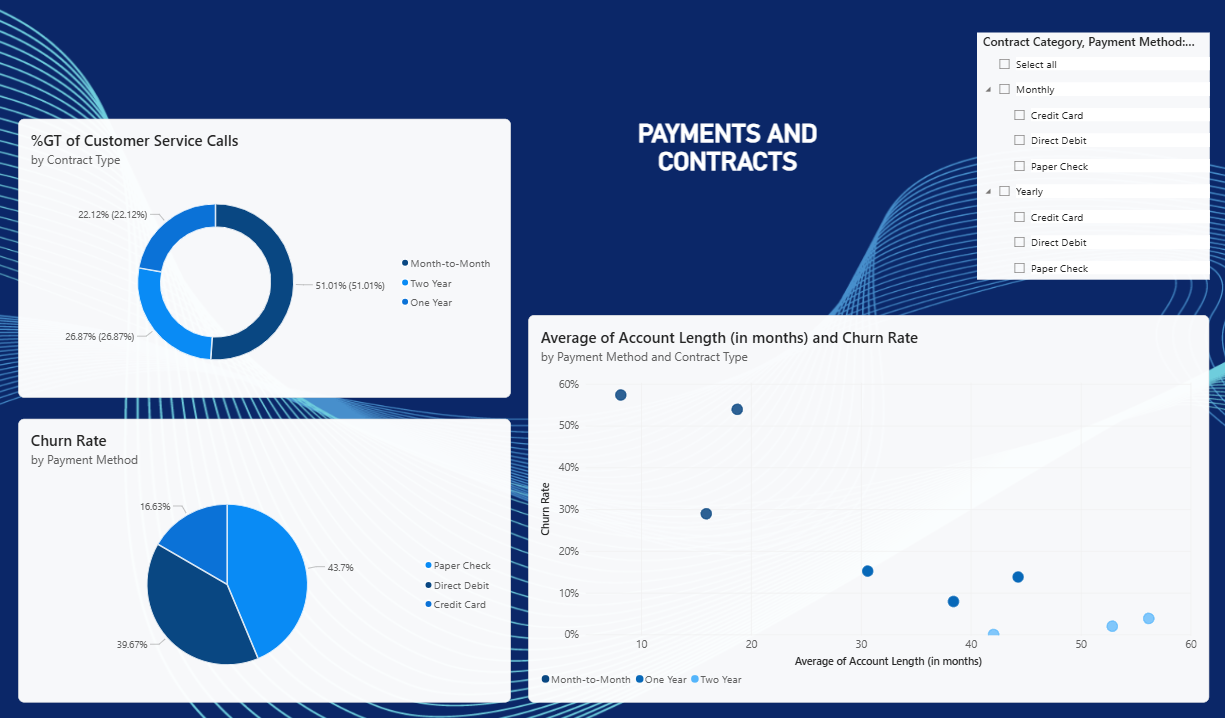

This screenshot's page, from the dashboard's own definition file:
{"tool":"powerbi","page":{"name":"Payments and Contracts","canvas":[1640,960],"ordinal":2},"visuals":[{"type":"scatterChart","fields":{"X":["Avg(Databel.Account Length (in months))"],"Y":["_Calculations.Churn Rate"],"Series":["Databel.Contract Type"],"Category":["Databel.Payment Method"]},"box":[708.3,420,908.3,516.7],"z":0},{"type":"textbox","box":[785,158.3,378.3,116.7],"z":1000},{"type":"slicer","fields":{"Values":["Databel.Contract Category","Databel.Payment Method"]},"box":[1306.9,43.1,310.3,329.3],"z":2000},{"type":"donutChart","title":"%GT of Customer Service Calls","fields":{"Category":["Databel.Contract Type"],"Y":["CountNonNull(Databel.Customer Service Calls)"]},"box":[28.3,158.3,656.7,371.7],"z":3000},{"type":"pieChart","fields":{"Category":["Databel.Payment Method"],"Y":["_Calculations.Churn Rate"]},"box":[28.3,558.3,656.7,378.3],"z":4000}]}

Visuals, with their boxes in screenshot pixels (x1, y1, x2, y2), scaled from the page's 1640x960 canvas onto the 1225x718 screenshot:
scatterChart - Avg(Databel.Account Length (in months)) x _Calculations.Churn Rate: crop(529, 314, 1208, 701)
textbox: crop(586, 118, 869, 206)
slicer - Databel.Contract Category x Databel.Payment Method: crop(976, 32, 1208, 279)
"%GT of Customer Service Calls" donutChart: crop(21, 118, 512, 396)
pieChart - Databel.Payment Method x _Calculations.Churn Rate: crop(21, 418, 512, 700)
